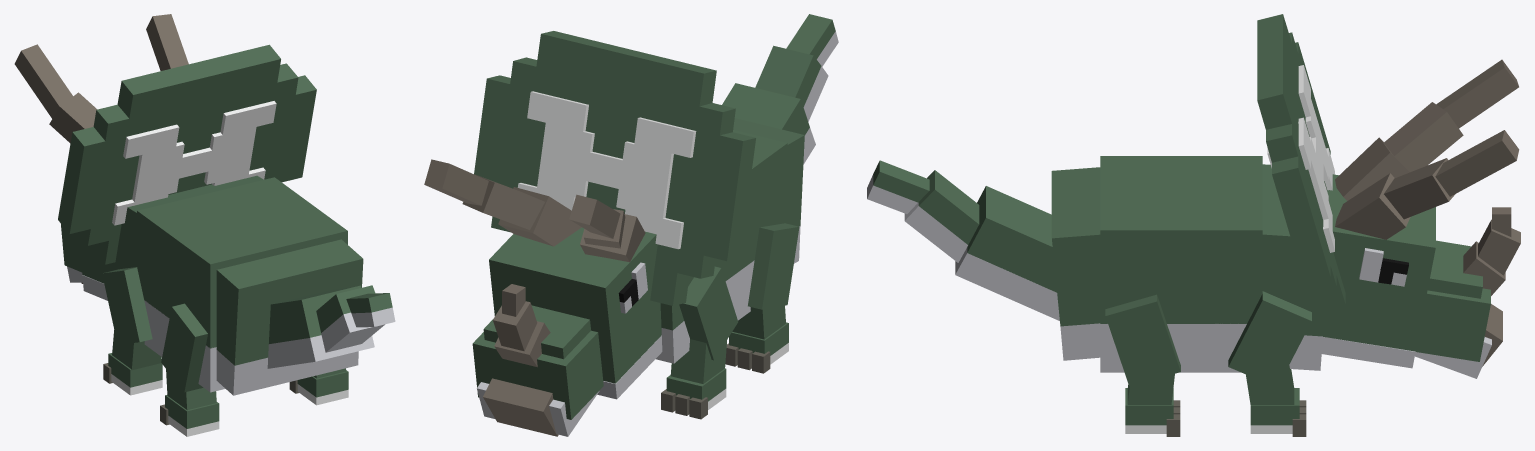
Rendered from triceratops_2.obj.
3 renders of one model, left to right at view 1: azimuth 30°, elevation 25°; view 2: azimuth 150°, elevation 25°; view 3: azimuth 270°, elevation 25°, orthographic. The views are drawn at different scales.
Visible parts, largest first — view 1: head, torso, tail01, leg_L, arm_L, tail02, leg_L_Hand, arm_L_Hand, leg_R_Hand, tail03, arm_L_Lower, leg_L_Lower; view 2: head, torso, leg_L, arm_L, tail01, tail02, arm_L_Hand, leg_L_Hand, tail03, arm_L_Lower, leg_L_Lower; view 3: head, torso, tail01, arm_R, leg_R, tail02, tail03, arm_R_Hand, leg_R_Hand, arm_R_Lower, leg_R_Lower.
Boxes of the visible parts, x1=… form: head: x1=14, y1=14, x2=316, y2=300; torso: x1=113, y1=175, x2=363, y2=395; tail01: x1=267, y1=285, x2=374, y2=368; leg_L: x1=161, y1=303, x2=207, y2=392; arm_L: x1=102, y1=267, x2=152, y2=344; tail02: x1=316, y1=285, x2=384, y2=352; leg_L_Hand: x1=160, y1=395, x2=219, y2=436; arm_L_Hand: x1=103, y1=353, x2=162, y2=395; leg_R_Hand: x1=289, y1=370, x2=348, y2=405; tail03: x1=346, y1=293, x2=395, y2=327; arm_L_Lower: x1=112, y1=330, x2=161, y2=369; leg_L_Lower: x1=166, y1=369, x2=216, y2=409; head: x1=424, y1=31, x2=755, y2=436; torso: x1=655, y1=118, x2=804, y2=363; leg_L: x1=748, y1=223, x2=799, y2=309; arm_L: x1=679, y1=266, x2=738, y2=360; tail01: x1=722, y1=83, x2=815, y2=164; tail02: x1=755, y1=45, x2=828, y2=121; arm_L_Hand: x1=661, y1=368, x2=726, y2=419; leg_L_Hand: x1=725, y1=322, x2=788, y2=373; tail03: x1=786, y1=14, x2=838, y2=66; arm_L_Lower: x1=670, y1=339, x2=726, y2=383; leg_L_Lower: x1=732, y1=305, x2=785, y2=339; head: x1=1257, y1=14, x2=1520, y2=378; torso: x1=1051, y1=156, x2=1328, y2=372; tail01: x1=955, y1=186, x2=1059, y2=320; arm_R: x1=1228, y1=291, x2=1311, y2=387; leg_R: x1=1105, y1=294, x2=1180, y2=386; tail02: x1=904, y1=170, x2=979, y2=262; tail03: x1=867, y1=160, x2=929, y2=213; arm_R_Hand: x1=1250, y1=388, x2=1306, y2=436; leg_R_Hand: x1=1125, y1=388, x2=1180, y2=436; arm_R_Lower: x1=1246, y1=365, x2=1294, y2=404; leg_R_Lower: x1=1127, y1=374, x2=1174, y2=404.
Bounding box in the file's own units: 5.89 × 7.36 × 12.92.
